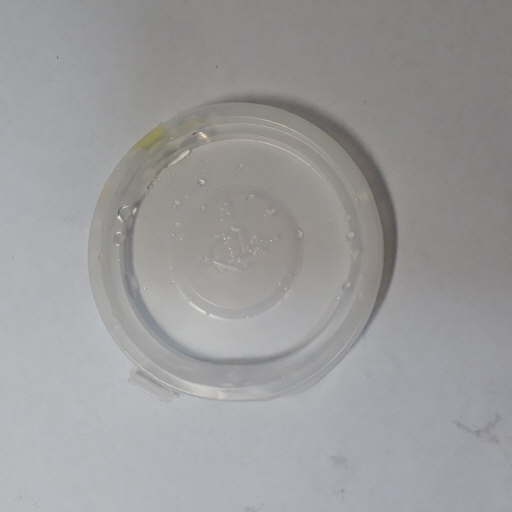Plastic_5: (86, 99, 387, 410)
